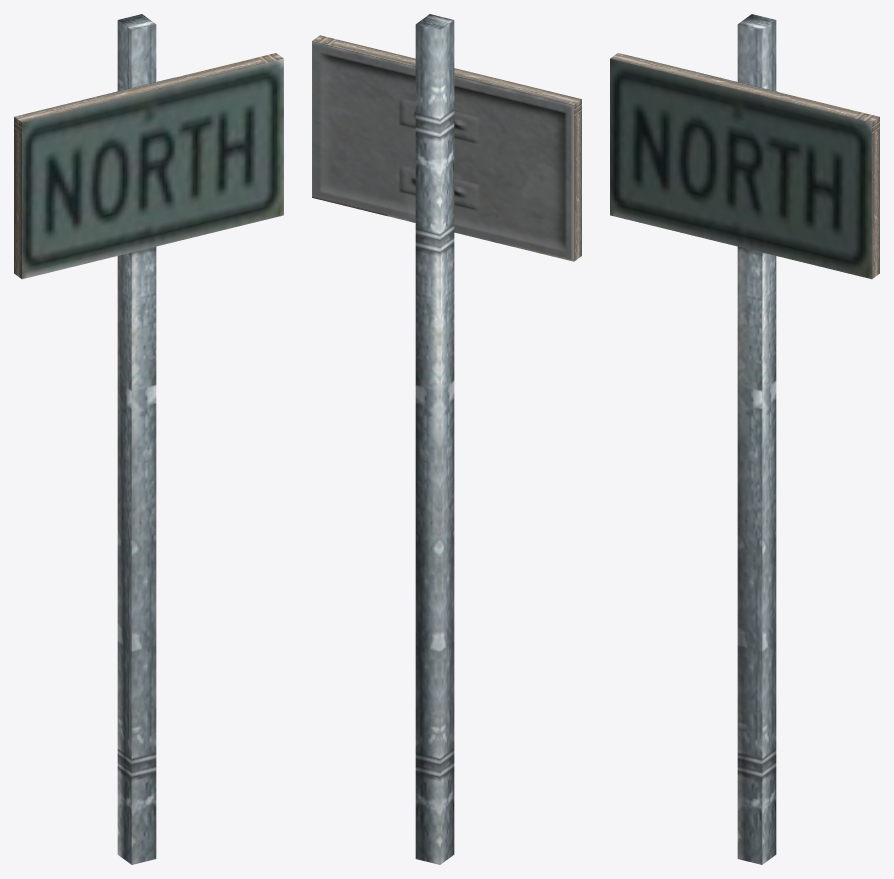
File: Model_StreetSign_00.fbx
The picture shows the model from 3 angles, left to right: view 1: azimuth 30°, elevation 25°; view 2: azimuth 150°, elevation 25°; view 3: azimuth 330°, elevation 25°; orthographic projection.
Parts seen in each view (by area): view 1: StreetSign_00; view 2: StreetSign_00; view 3: StreetSign_00.
Boxes of the visible parts, left/top/right/bottom form: StreetSign_00: left=14, top=14, right=283, bottom=864; StreetSign_00: left=312, top=14, right=581, bottom=864; StreetSign_00: left=610, top=14, right=879, bottom=864.
Size of the model in its own units: 68.94 by 210 by 10.5.
